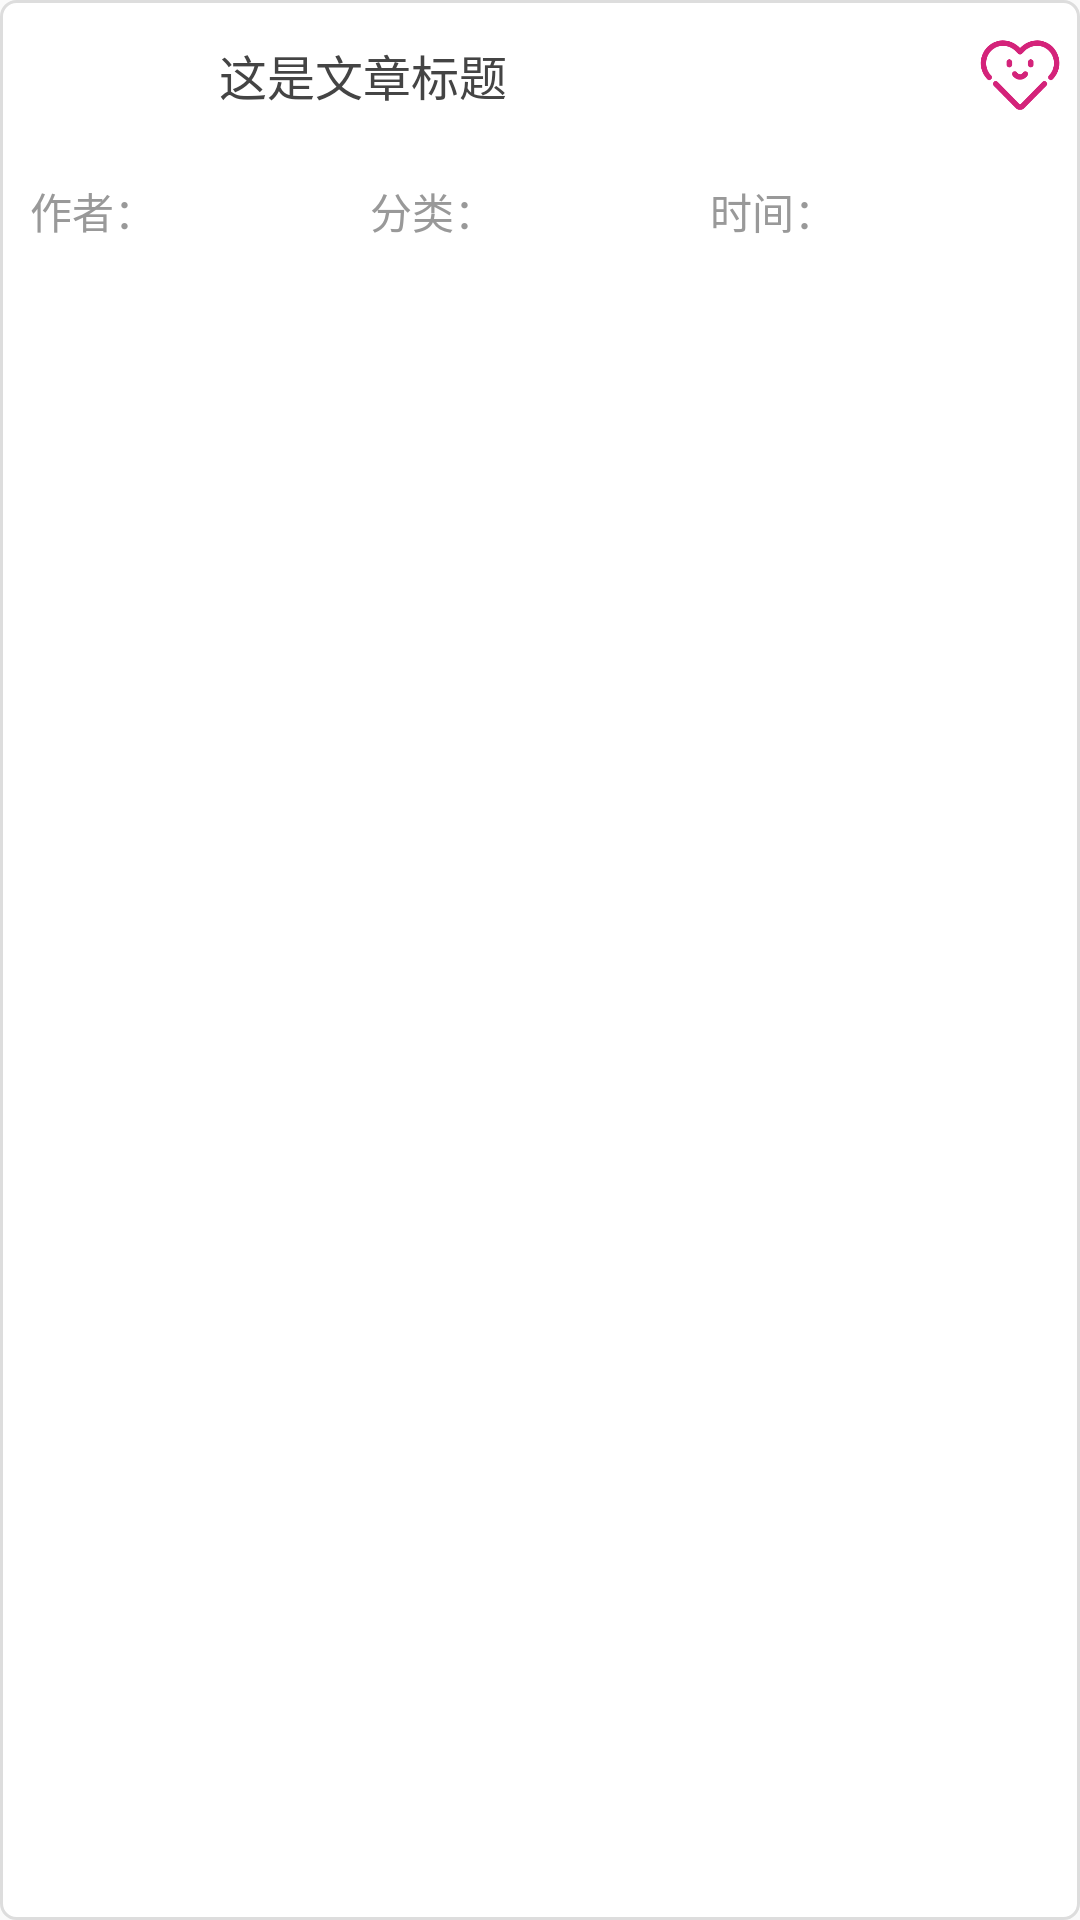

Icons on this 1080 x 1920 Android screen, each with the point to tap as [x,y]:
collected: [1020,75]
